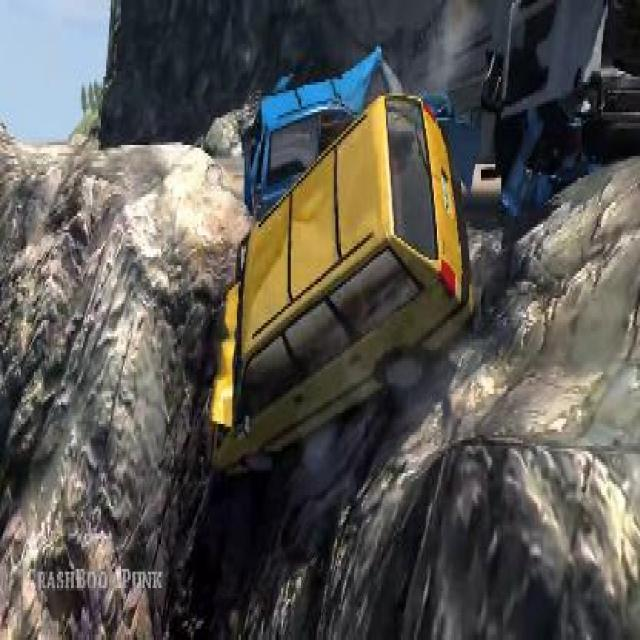accident: (191, 33, 472, 481)
